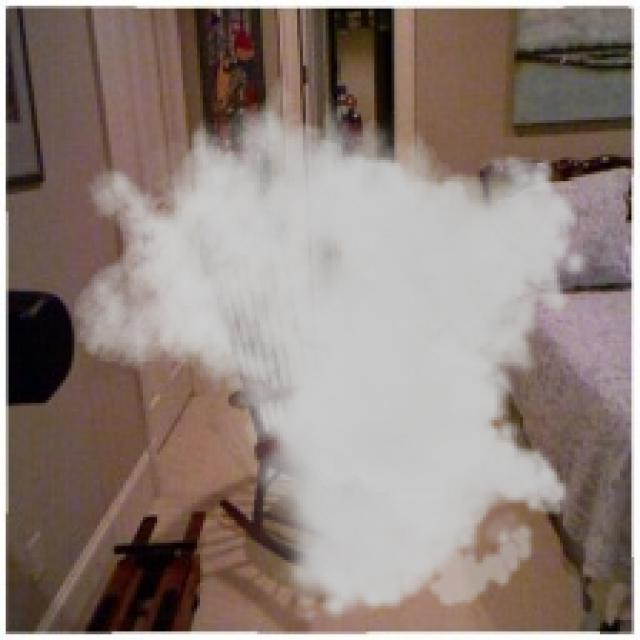smoke: (71, 57, 592, 623)
